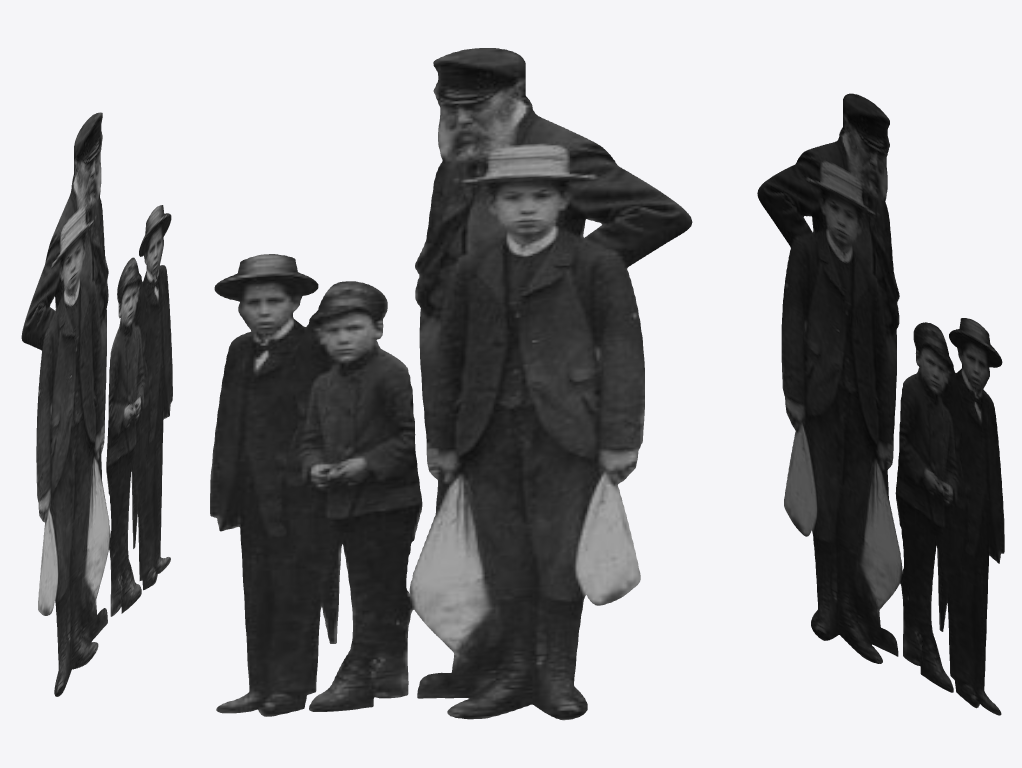
File: old_man_with_boys.FBX
3 views of the same model, side by side, from view 1: azimuth 30°, elevation 25°; view 2: azimuth 150°, elevation 25°; view 3: azimuth 270°, elevation 25° (orthographic). The views are drawn at different scales.
Parts seen in each view (by area): view 1: old_man_with_boys; view 2: old_man_with_boys; view 3: old_man_with_boys.
Boxes of the visible parts, left/top/right/bottom form: old_man_with_boys: left=21, top=112, right=172, bottom=696; old_man_with_boys: left=210, top=48, right=692, bottom=720; old_man_with_boys: left=757, top=93, right=1004, bottom=715.
Bounding box in the file's own units: 100 × 192 × 76.92.
1 material, 1 textured.
